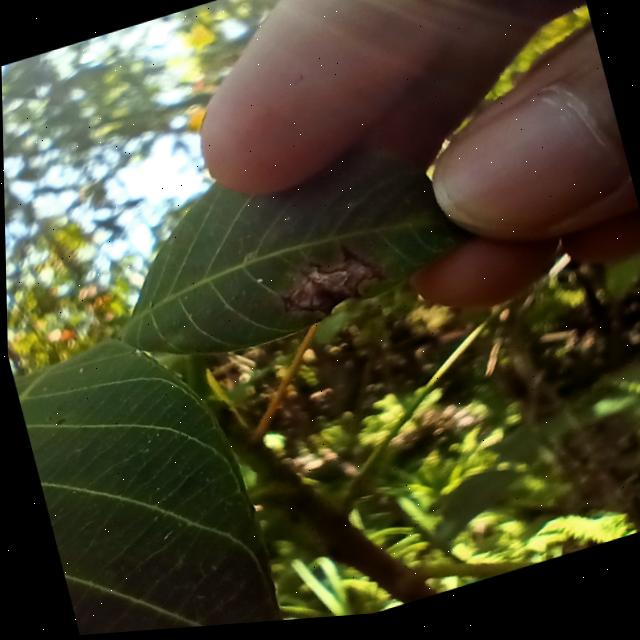Corynespora: (336, 241, 372, 281)
Leaf-Blight: (274, 253, 372, 329)
